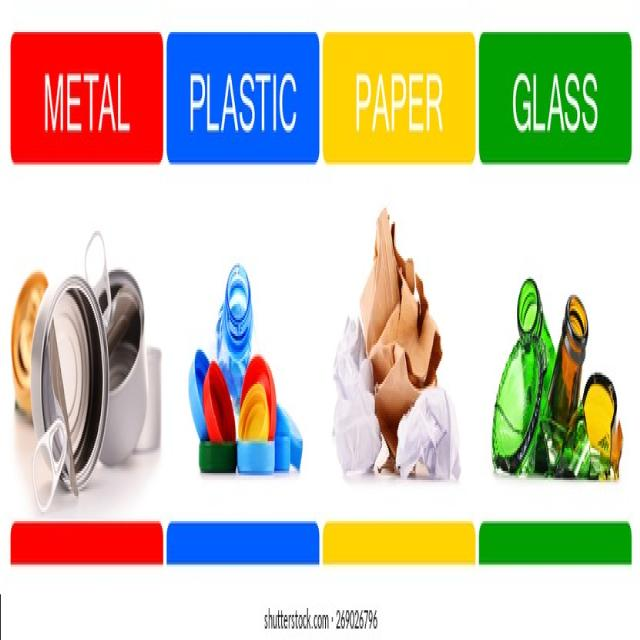glass: (494, 249, 608, 492)
metal: (12, 235, 167, 496)
paper: (338, 247, 448, 500)
plastic: (196, 281, 290, 485)
